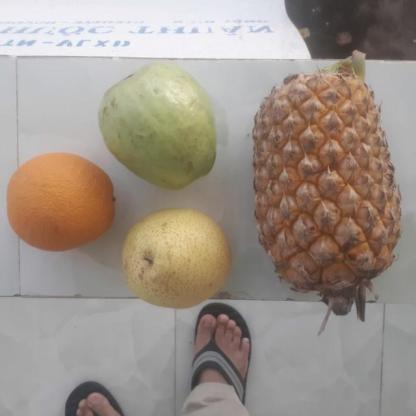guava: (100, 69, 224, 188)
orange: (5, 150, 121, 250)
pear: (122, 208, 236, 310)
pineapple: (258, 72, 402, 293)
